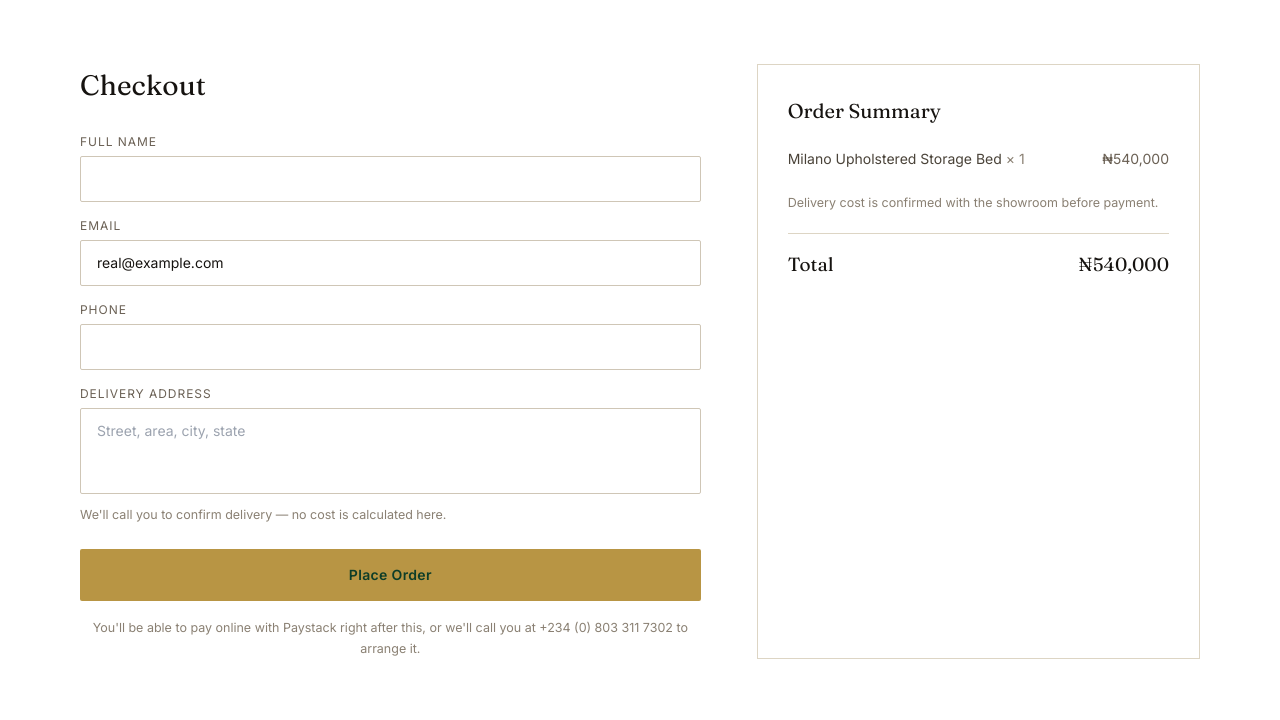
Test: CheckoutView — authenticated › shows the real order number on success and points to /account — cart is never cleared client-side
Type "  Ada Obi  " into the field labelled "Full name".
click(390, 179); type("  Ada Obi  ")  # box [80, 156, 701, 202]
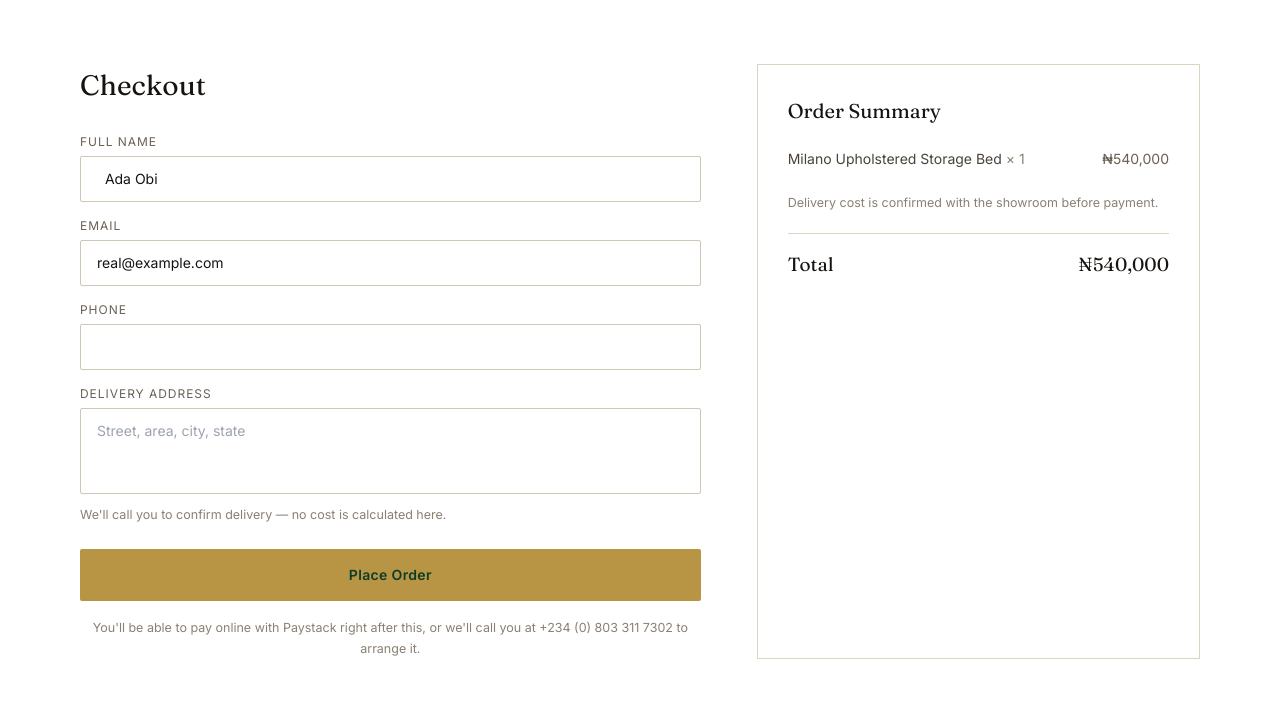
Replace the text in the field labelled "Email" with "ada@example.com" at (390, 263), box [80, 240, 701, 286]
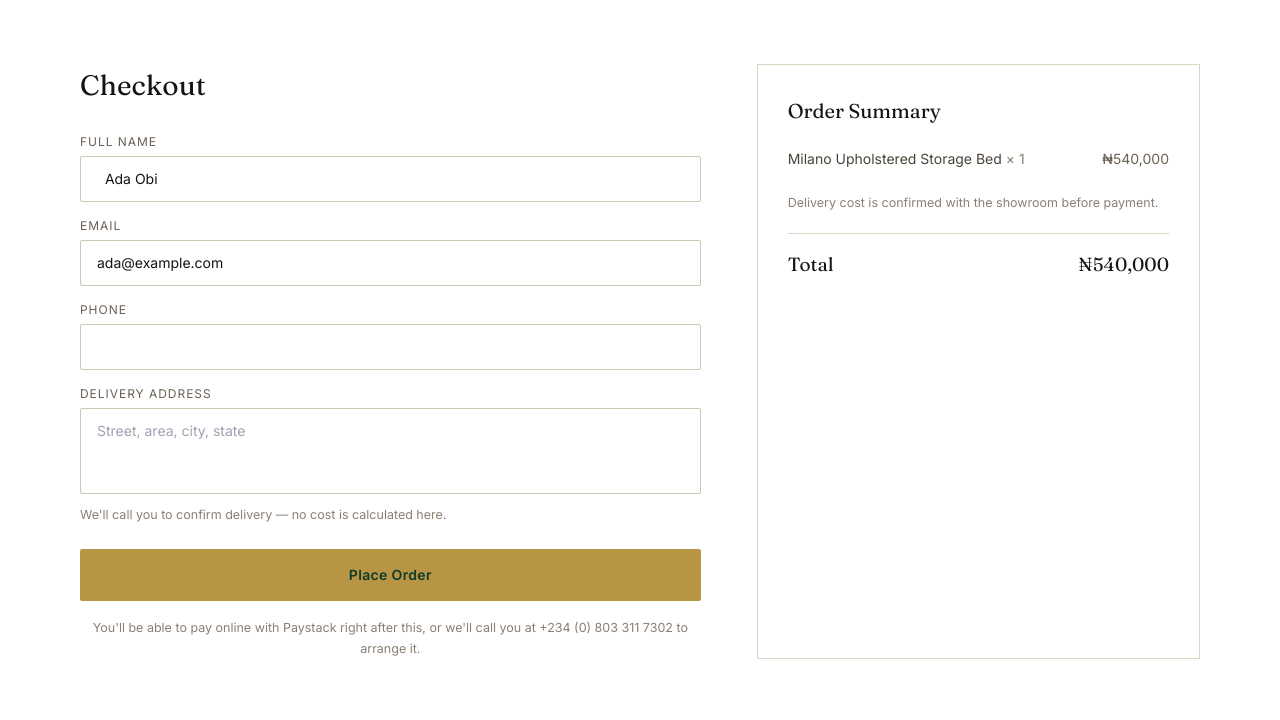
Type "08030000000" into the field labelled "Phone".
click(390, 347); type("08030000000")  # box [80, 324, 701, 370]
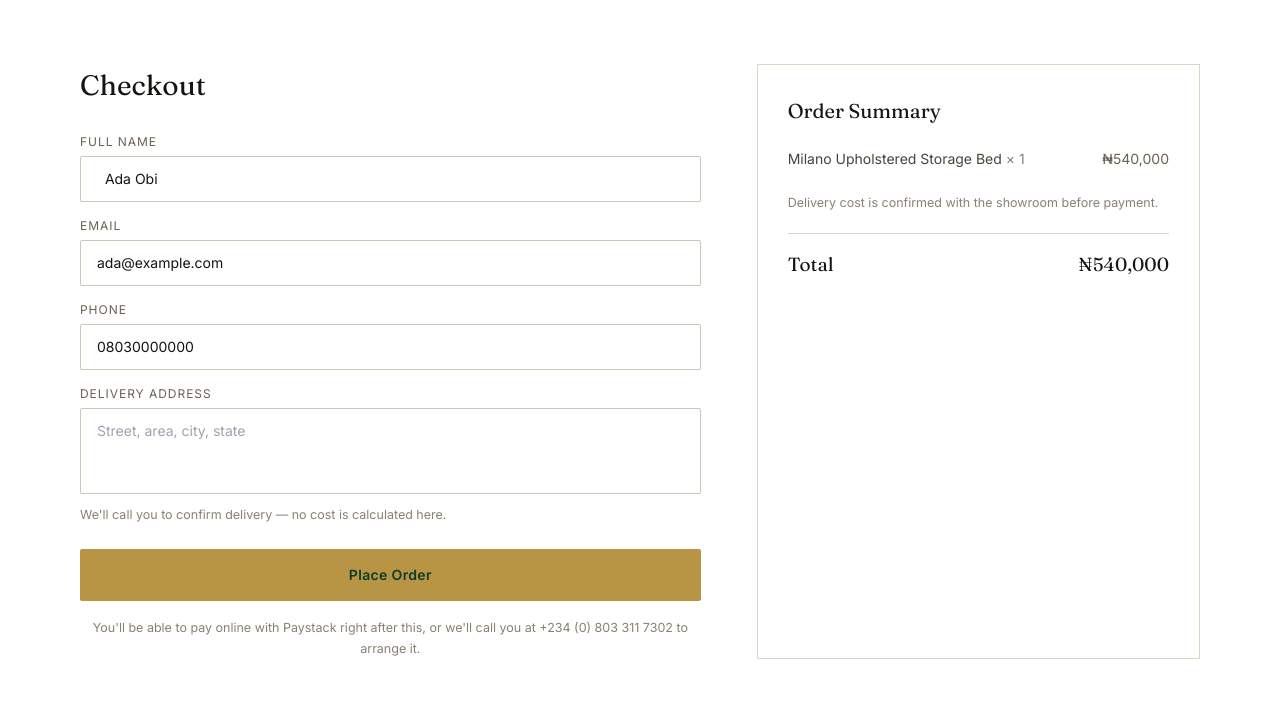
Type "12 Gudu Close, Abuja " into the text box labelled "Delivery address".
click(390, 451); type("12 Gudu Close, Abuja ")  # box [80, 408, 701, 494]
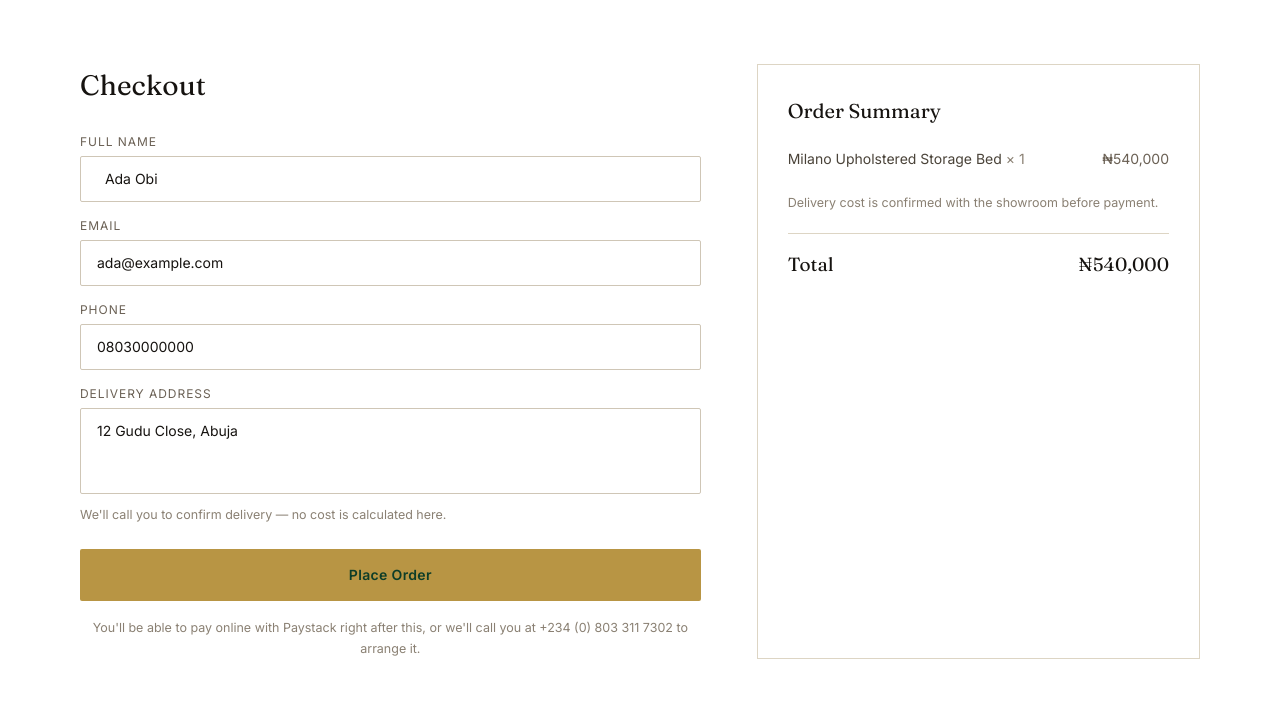
Click the button "Place Order".
click(390, 575)  # box [80, 549, 701, 601]
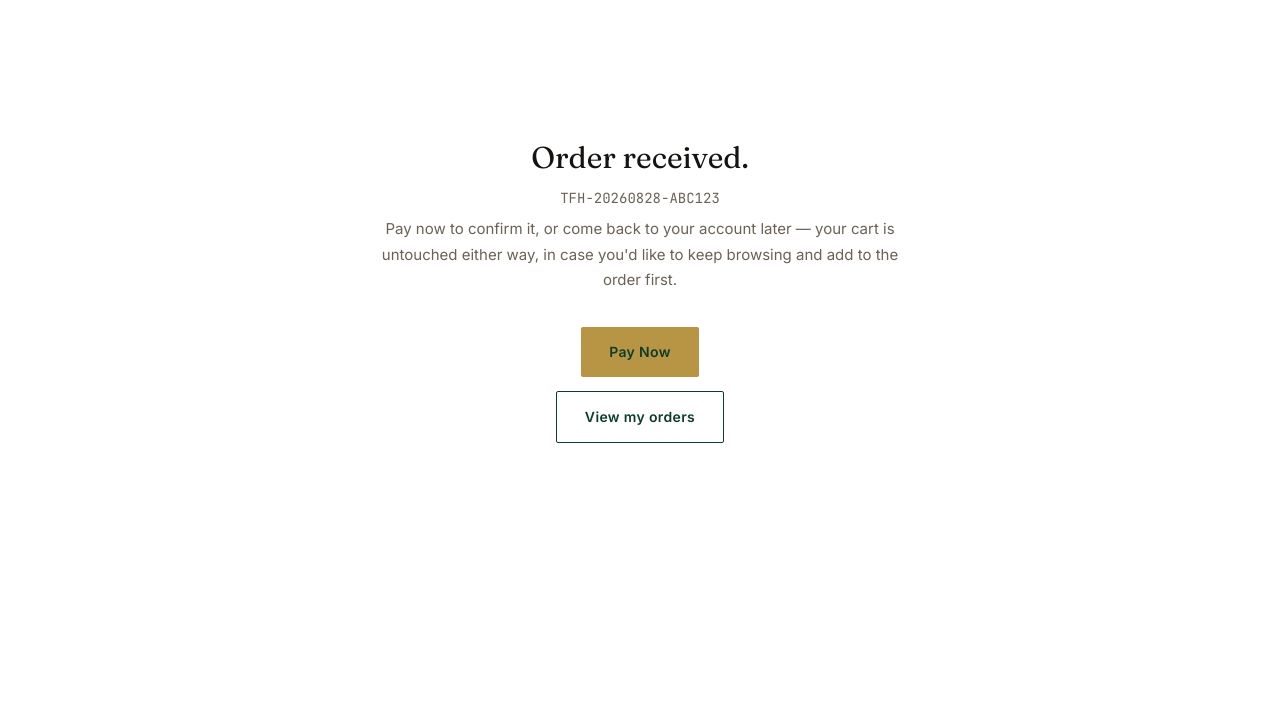
Expected: the heading "Order received." is shown, [531, 139, 749, 176]
Expected: the text "TFH-20260828-ABC123" is shown, [560, 189, 720, 207]
